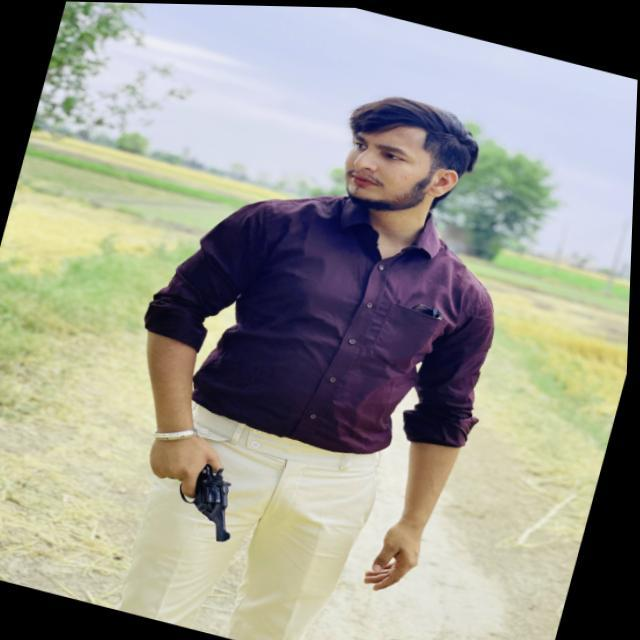weapon: (131, 439, 262, 550)
